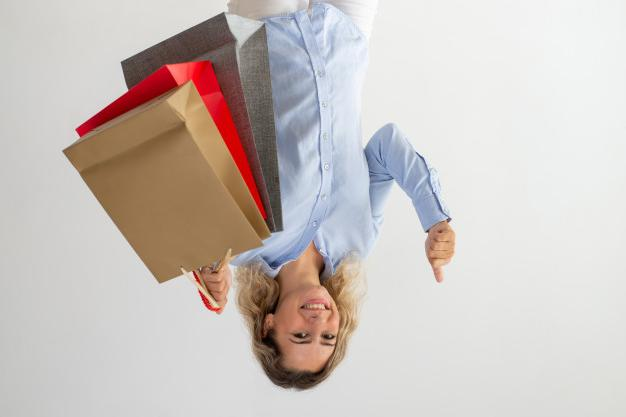thumbsdown: (425, 229, 456, 285)
